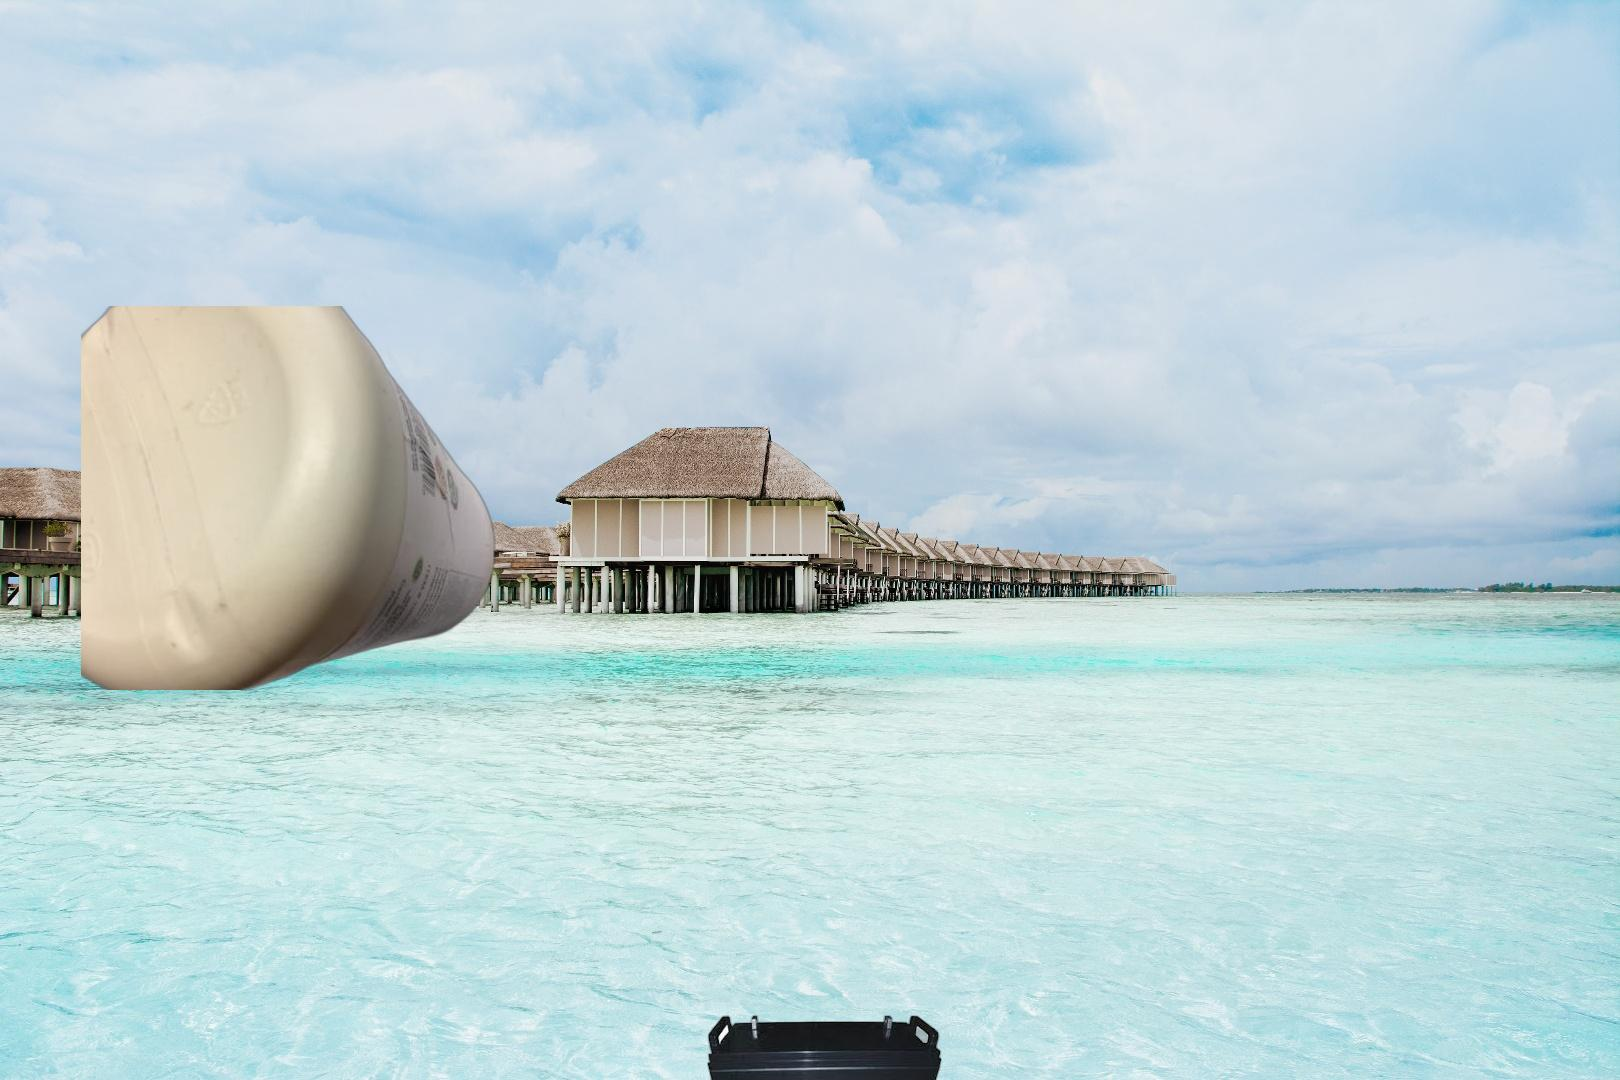battery: (705, 1012, 943, 1080)
plastic-bottles: (81, 306, 499, 689)
